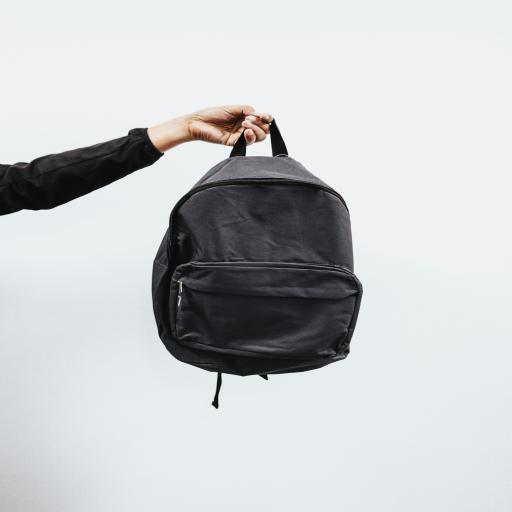door: (152, 112, 362, 410)
laptop: (0, 106, 278, 218)
